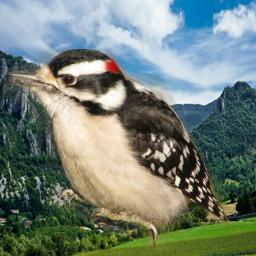Woodpecker: (3, 49, 232, 250)
